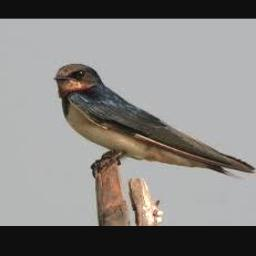Swallow: (54, 65, 256, 177)
